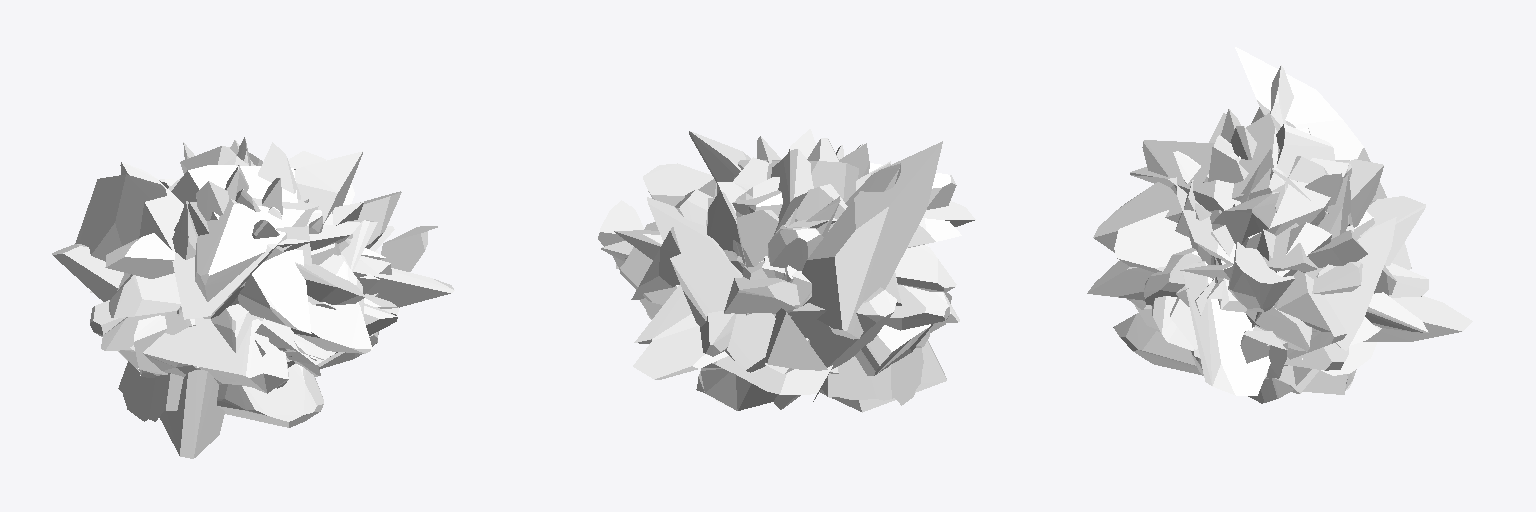
The model's file is cellfracture.obj.
3 views of the same model, side by side, from view 1: azimuth 30°, elevation 25°; view 2: azimuth 150°, elevation 25°; view 3: azimuth 270°, elevation 25° (orthographic).
Visible parts, largest first — view 1: Sphere_cell.063_Sphere_cell.908, Sphere_cell.070_Sphere_cell.915, Sphere_cell.013_Sphere_cell.858, Sphere_cell.032_Sphere_cell.877, Sphere_cell.057_Sphere_cell.902, Sphere_cell.080_Sphere_cell.925, Sphere_cell.054_Sphere_cell.899, Sphere_cell.030_Sphere_cell.875, Sphere_cell.061_Sphere_cell.906, Sphere_cell.044_Sphere_cell.889, Sphere_cell.078_Sphere_cell.923, Sphere_cell.101_Sphere_cell.946 (+18 smaller); view 2: Sphere_cell.032_Sphere_cell.877, Sphere_cell.056_Sphere_cell.901, Sphere_cell.082_Sphere_cell.927, Sphere_cell.030_Sphere_cell.875, Sphere_cell.086_Sphere_cell.931, Sphere_cell.078_Sphere_cell.923, Sphere_cell.066_Sphere_cell.911, Sphere_cell.003_Sphere_cell.848, Sphere_cell.054_Sphere_cell.899, Sphere_cell.067_Sphere_cell.912, Sphere_cell.063_Sphere_cell.908, Sphere_cell.077_Sphere_cell.922 (+22 smaller); view 3: Sphere_cell.013_Sphere_cell.858, Sphere_cell.101_Sphere_cell.946, Sphere_cell.070_Sphere_cell.915, Sphere_cell.032_Sphere_cell.877, Sphere_cell.009_Sphere_cell.854, Sphere_cell.054_Sphere_cell.899, Sphere_cell.071_Sphere_cell.916, Sphere_cell.039_Sphere_cell.884, Sphere_cell.102_Sphere_cell.947, Sphere_cell.086_Sphere_cell.931, Sphere_cell.066_Sphere_cell.911, Sphere_cell.057_Sphere_cell.902 (+23 smaller).
Boxes of the visible parts, <box> form: Sphere_cell.063_Sphere_cell.908: <box>118,318,288,393</box>; Sphere_cell.070_Sphere_cell.915: <box>171,165,311,333</box>; Sphere_cell.013_Sphere_cell.858: <box>195,164,318,318</box>; Sphere_cell.032_Sphere_cell.877: <box>75,174,166,261</box>; Sphere_cell.057_Sphere_cell.902: <box>172,219,377,319</box>; Sphere_cell.080_Sphere_cell.925: <box>159,165,248,458</box>; Sphere_cell.054_Sphere_cell.899: <box>217,364,323,427</box>; Sphere_cell.030_Sphere_cell.875: <box>118,201,197,421</box>; Sphere_cell.061_Sphere_cell.906: <box>291,302,372,353</box>; Sphere_cell.044_Sphere_cell.889: <box>295,151,362,224</box>; Sphere_cell.078_Sphere_cell.923: <box>109,273,181,318</box>; Sphere_cell.101_Sphere_cell.946: <box>339,255,454,307</box>; Sphere_cell.032_Sphere_cell.877: <box>802,141,942,339</box>; Sphere_cell.056_Sphere_cell.901: <box>647,197,775,372</box>; Sphere_cell.082_Sphere_cell.927: <box>774,287,896,409</box>; Sphere_cell.030_Sphere_cell.875: <box>821,163,923,405</box>; Sphere_cell.086_Sphere_cell.931: <box>633,326,728,379</box>; Sphere_cell.078_Sphere_cell.923: <box>733,157,956,292</box>; Sphere_cell.066_Sphere_cell.911: <box>724,277,799,313</box>; Sphere_cell.003_Sphere_cell.848: <box>765,308,827,370</box>; Sphere_cell.054_Sphere_cell.899: <box>696,363,777,410</box>; Sphere_cell.067_Sphere_cell.912: <box>712,356,832,401</box>; Sphere_cell.063_Sphere_cell.908: <box>855,324,932,375</box>; Sphere_cell.077_Sphere_cell.922: <box>885,285,949,330</box>; Sphere_cell.013_Sphere_cell.858: <box>1142,140,1351,248</box>; Sphere_cell.101_Sphere_cell.946: <box>1182,261,1270,395</box>; Sphere_cell.070_Sphere_cell.915: <box>1093,113,1287,252</box>; Sphere_cell.032_Sphere_cell.877: <box>1235,47,1386,200</box>; Sphere_cell.009_Sphere_cell.854: <box>1316,217,1396,350</box>; Sphere_cell.054_Sphere_cell.899: <box>1113,313,1356,394</box>; Sphere_cell.071_Sphere_cell.916: <box>1114,210,1191,272</box>; Sphere_cell.039_Sphere_cell.884: <box>1274,270,1346,359</box>; Sphere_cell.102_Sphere_cell.947: <box>1228,242,1294,311</box>; Sphere_cell.086_Sphere_cell.931: <box>1363,296,1472,341</box>; Sphere_cell.066_Sphere_cell.911: <box>1275,196,1425,393</box>; Sphere_cell.057_Sphere_cell.902: <box>1130,167,1235,280</box>.
Size of the model in its own units: 1.57 by 1.17 by 1.52.